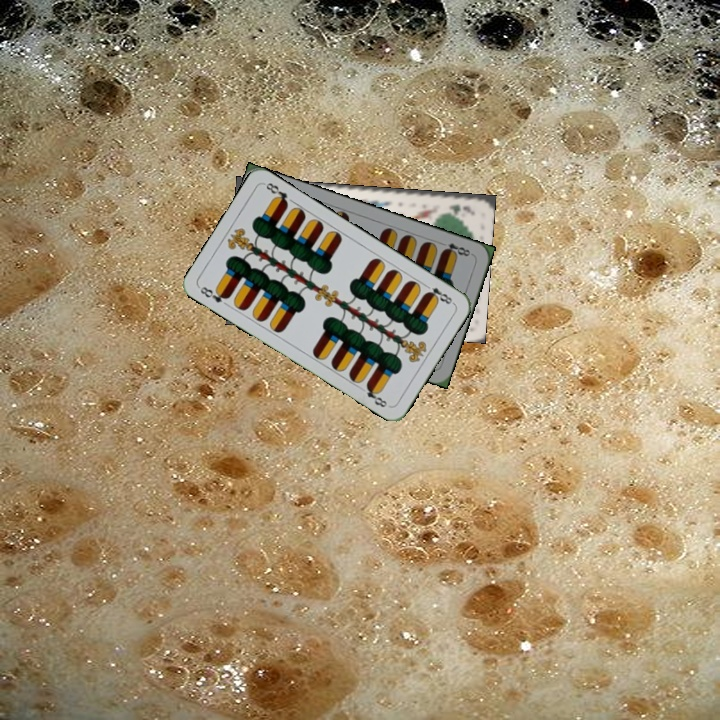E8: (420, 280, 456, 307), (195, 282, 232, 306), (436, 238, 475, 259)
GK: (445, 200, 473, 215)
